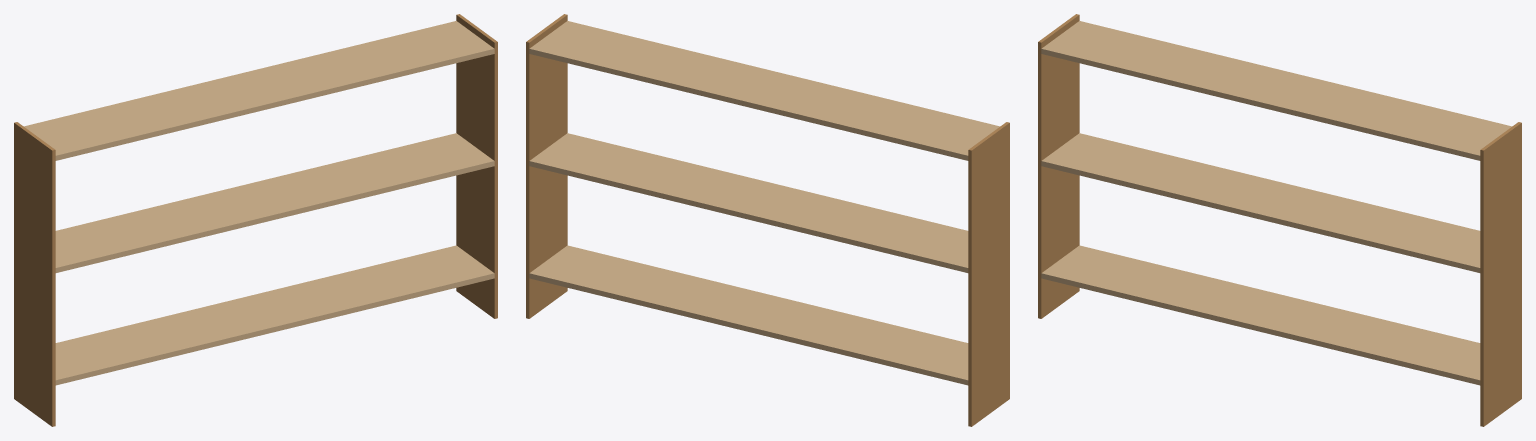
The picture shows the model from 3 angles, left to right: view 1: azimuth 30°, elevation 25°; view 2: azimuth 150°, elevation 25°; view 3: azimuth 330°, elevation 25°; orthographic projection.
Visible parts, largest first — view 1: estante_copy; view 2: estante_copy; view 3: estante_copy.
Boxes of the visible parts, bbox=[...] form: estante_copy: bbox=[14, 14, 497, 426]; estante_copy: bbox=[526, 14, 1009, 426]; estante_copy: bbox=[1038, 14, 1521, 426].
Size of the model in its own units: 2.7 by 0.4 by 1.6.
